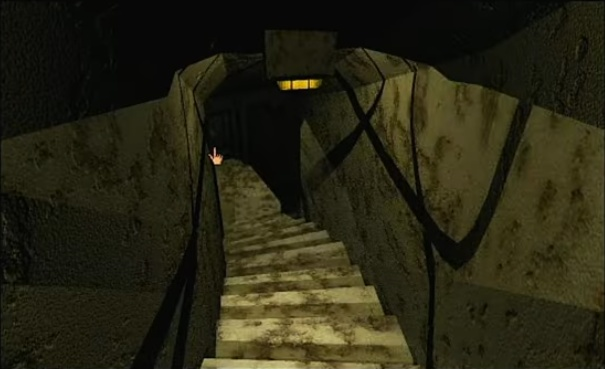Pointer: (205, 143, 228, 167)
